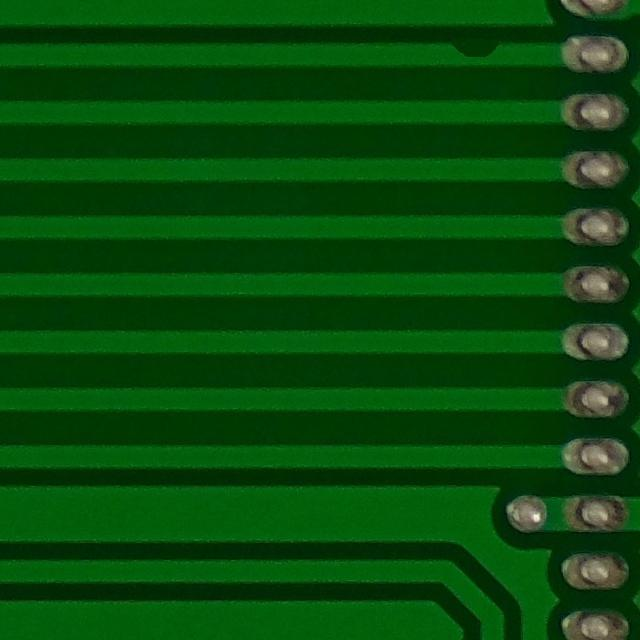mouse_bite: (441, 27, 512, 72)
